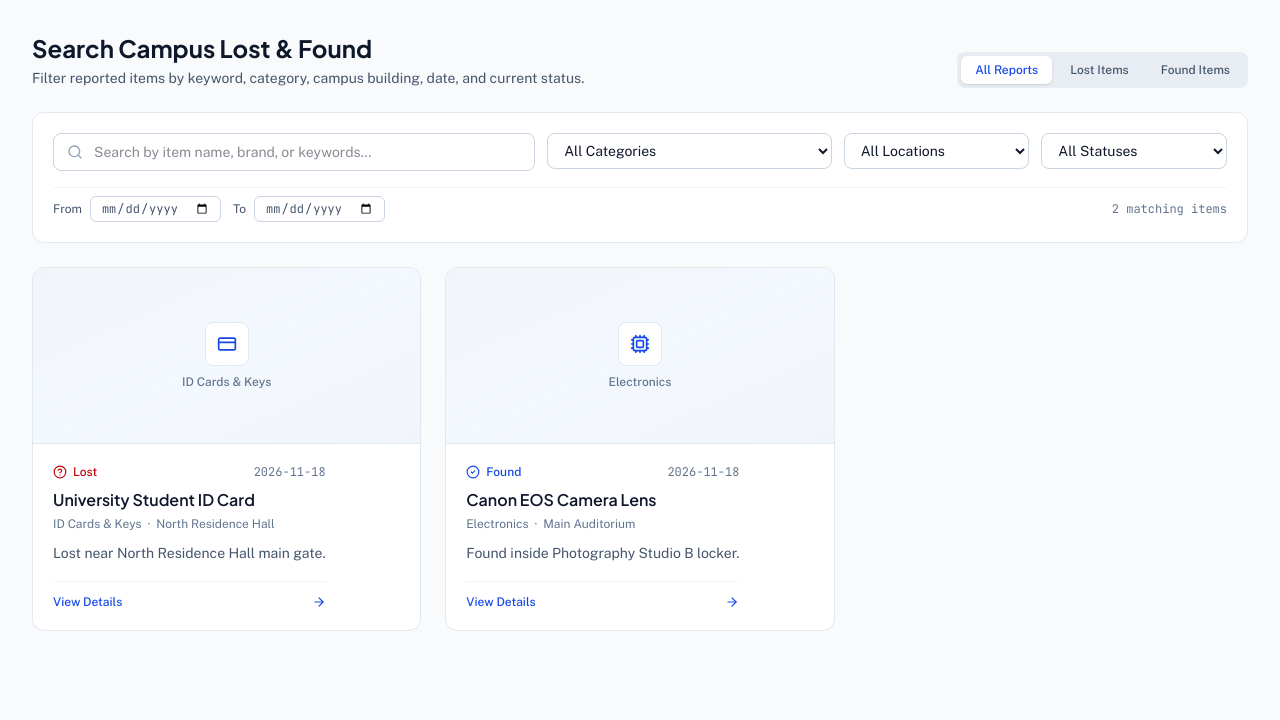
Scenario: Integration Testing Suite › TC-INT-05: Integrates search filtering UI directly with catalog database records
The image size is (1280, 720).
Select "Electronics" in the dropdown named "Filter by category" at [689, 151], box [547,133,832,169]
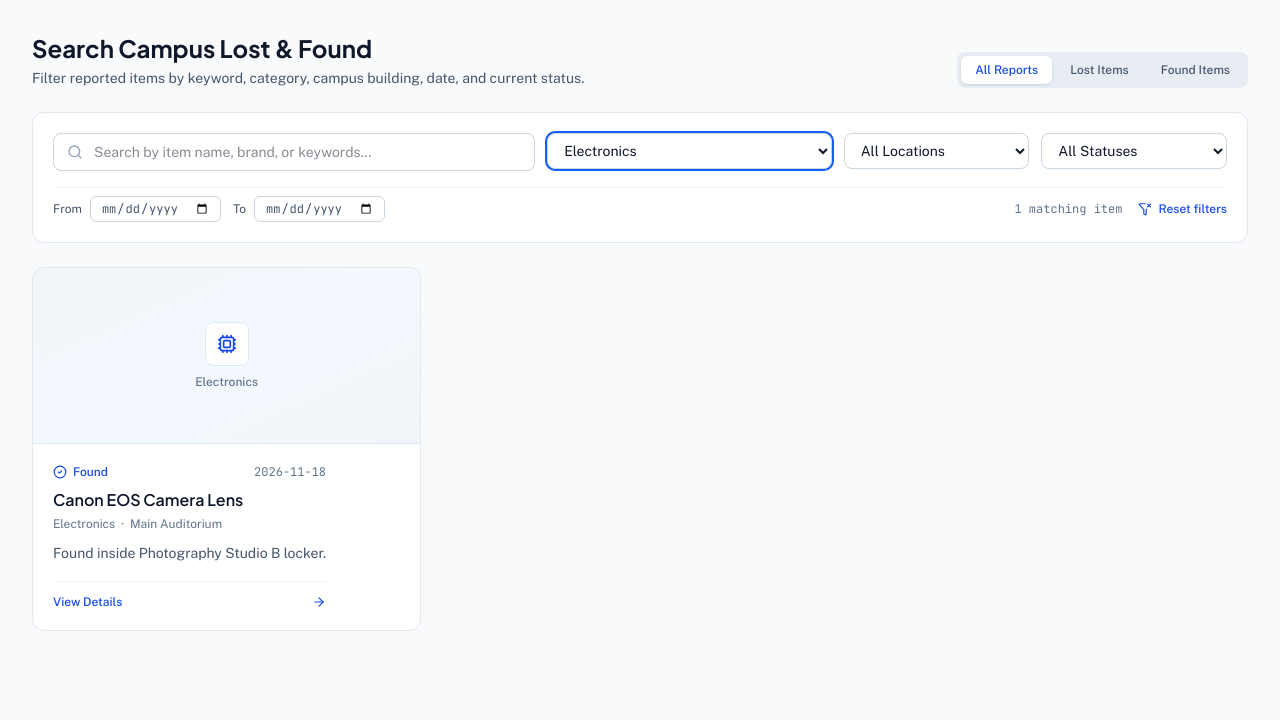
Expected: the heading "Canon EOS Camera Lens" is shown, [53,489,243,510]
Result: the button "University Student ID Card" is gone
